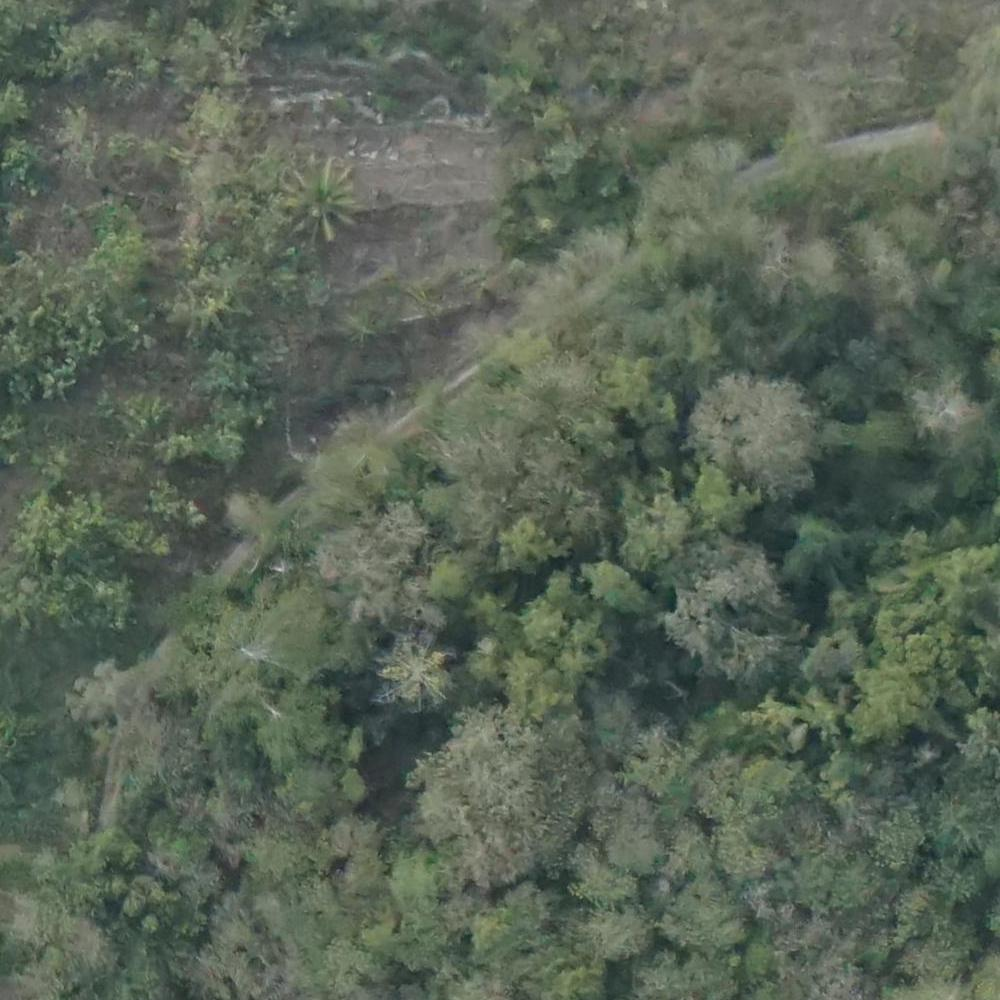tree: (708, 372, 809, 495), (424, 722, 543, 813), (225, 621, 299, 703), (385, 641, 454, 715), (287, 161, 346, 235), (857, 672, 919, 742), (321, 537, 389, 599), (670, 888, 733, 954), (467, 831, 525, 898), (910, 382, 977, 439), (601, 360, 669, 415), (604, 810, 664, 871), (925, 795, 979, 860), (624, 491, 674, 559), (590, 900, 649, 956), (383, 858, 445, 908), (743, 752, 799, 805), (374, 505, 422, 562), (696, 476, 747, 529), (516, 600, 567, 652), (471, 912, 515, 969), (287, 769, 333, 821), (424, 556, 475, 602), (501, 528, 555, 571), (720, 826, 766, 876), (92, 231, 144, 275), (122, 386, 166, 437), (822, 363, 862, 419), (124, 881, 163, 936), (808, 634, 860, 675), (791, 519, 836, 566)
